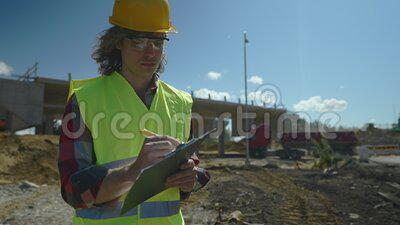helmet: (109, 0, 177, 34)
